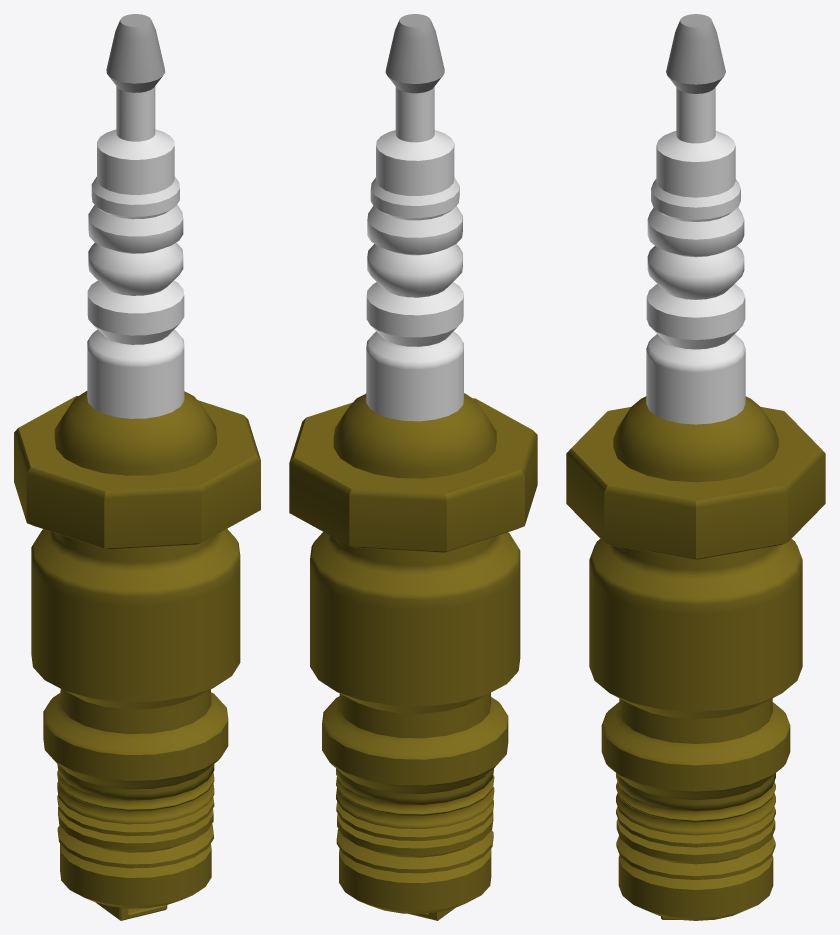
File: bujia.fbx
3 renders of one model, left to right at view 1: azimuth 30°, elevation 25°; view 2: azimuth 150°, elevation 25°; view 3: azimuth 270°, elevation 25°, orthographic.
Parts seen in each view (by area): view 1: Bujia; view 2: Bujia; view 3: Bujia.
Part boxes in pixels (bbox=[...]): Bujia: bbox=[14, 14, 260, 920]; Bujia: bbox=[289, 14, 537, 920]; Bujia: bbox=[566, 14, 825, 920].
Size of the model in its own units: 3.69 by 14.04 by 3.69.
